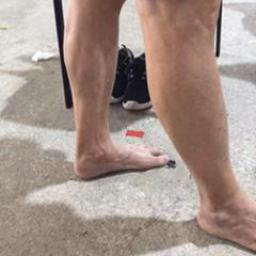Medial View -Left Foot-: (63, 134, 170, 184)
